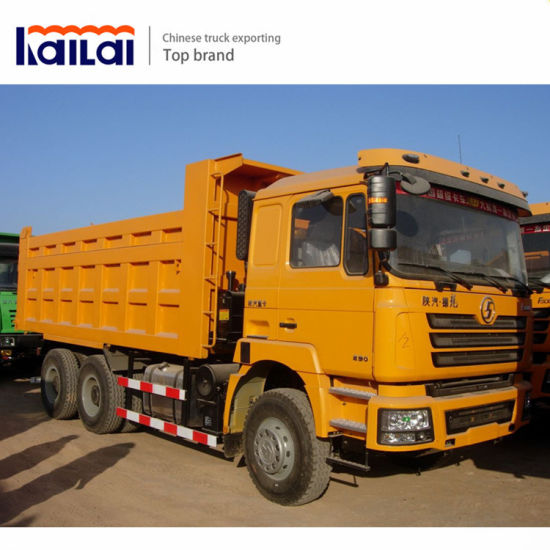truck: (18, 130, 541, 493)
